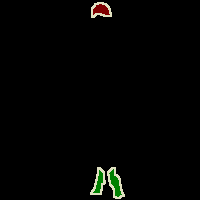hat: (92, 2, 111, 17)
shoe: (108, 168, 124, 198), (90, 168, 105, 194)
